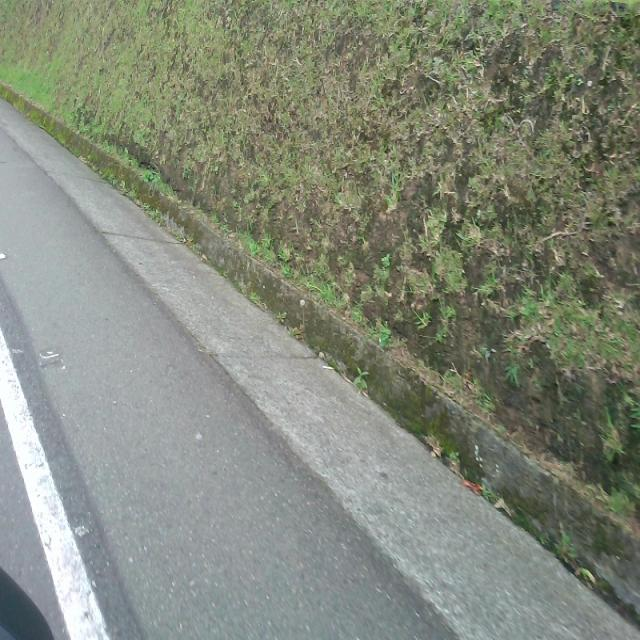DITCH: (7, 71, 638, 638), (1, 88, 639, 638), (1, 89, 638, 638)
